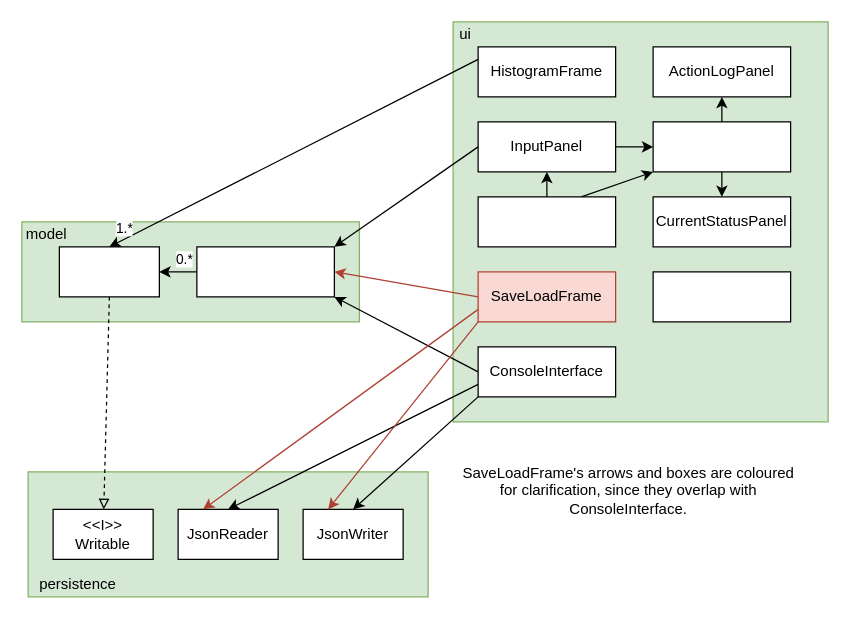
This 850x619 diagram has some shape labels left out. Here are the shapes that lost their labels. From the top down, the centre of each, then its label:
pixel 721 146: OutputPanel
pixel 546 221: UserInterface
pixel 108 271: Grade
pixel 265 271: GradesCalculator
pixel 721 296: Main
